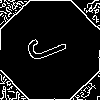J: (25, 25, 77, 65)
